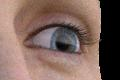eye: (52, 28, 77, 52)
